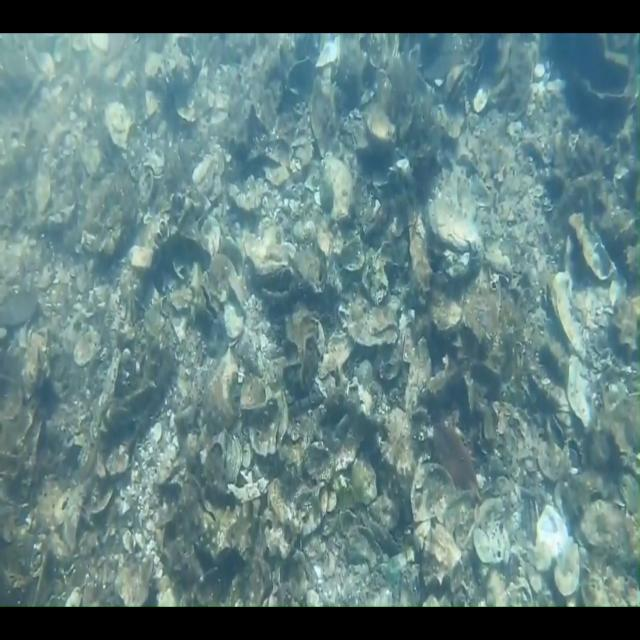Oyster- Indeterminate: (550, 271, 586, 358), (248, 387, 288, 457), (346, 298, 398, 347), (422, 525, 462, 585), (218, 431, 242, 481), (240, 378, 266, 409)
Oyster-Closed: (429, 182, 480, 278), (244, 227, 300, 310), (569, 213, 615, 280), (411, 462, 456, 522), (324, 158, 351, 217), (365, 102, 396, 151), (105, 102, 132, 149)
Oyster-Open: (444, 62, 470, 98)
